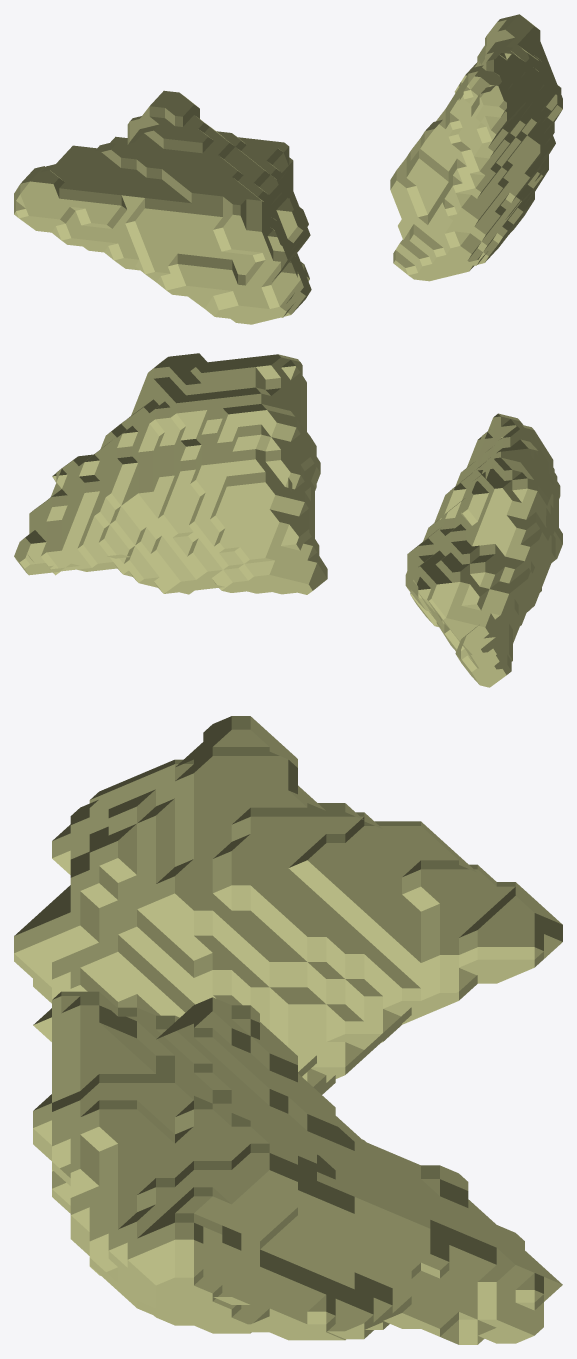
Rendered from region_0078_LH__lateral_hypothalamic_nucleus_.glb.
3 renders of one model, top to bottom at view 1: azimuth 30°, elevation 25°; view 2: azimuth 150°, elevation 25°; view 3: azimuth 270°, elevation 25°, orthographic. The views are drawn at different scales.
Visible parts, largest first — view 1: world; view 2: world; view 3: world.
Boxes of the visible parts, x1,y1,x2,y2 form: world: [14, 14, 562, 324]; world: [14, 353, 562, 687]; world: [14, 716, 562, 1344].
Size of the model in its own units: 0.392 by 0.176 by 0.232.
